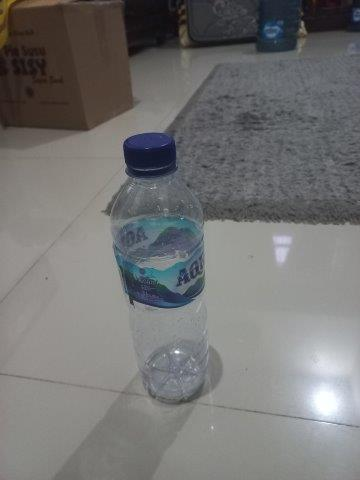botolplastik: (110, 133, 207, 404)
